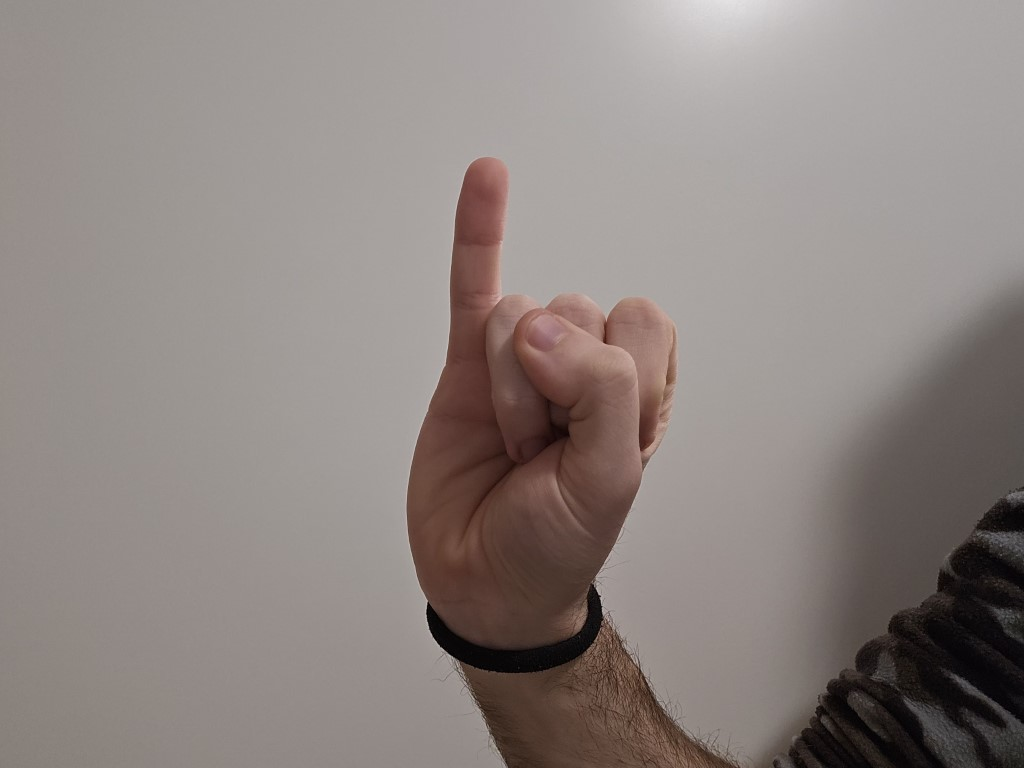i: (386, 143, 691, 623)
